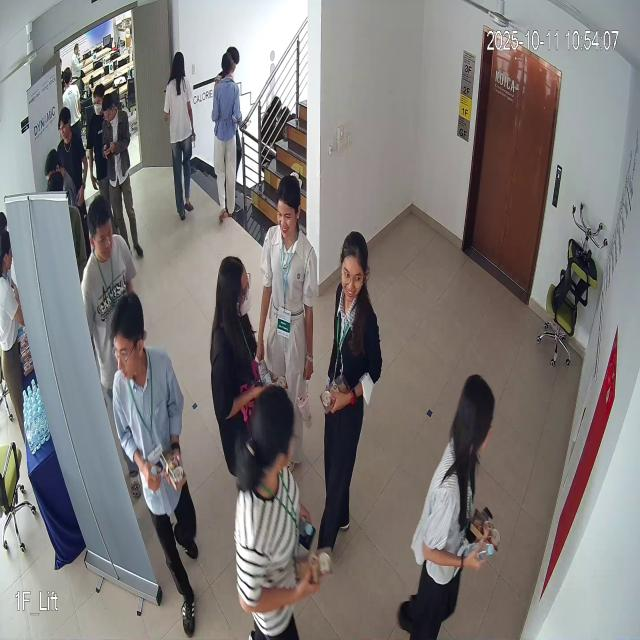face: (334, 227, 370, 307), (84, 195, 118, 268), (270, 166, 302, 243)
